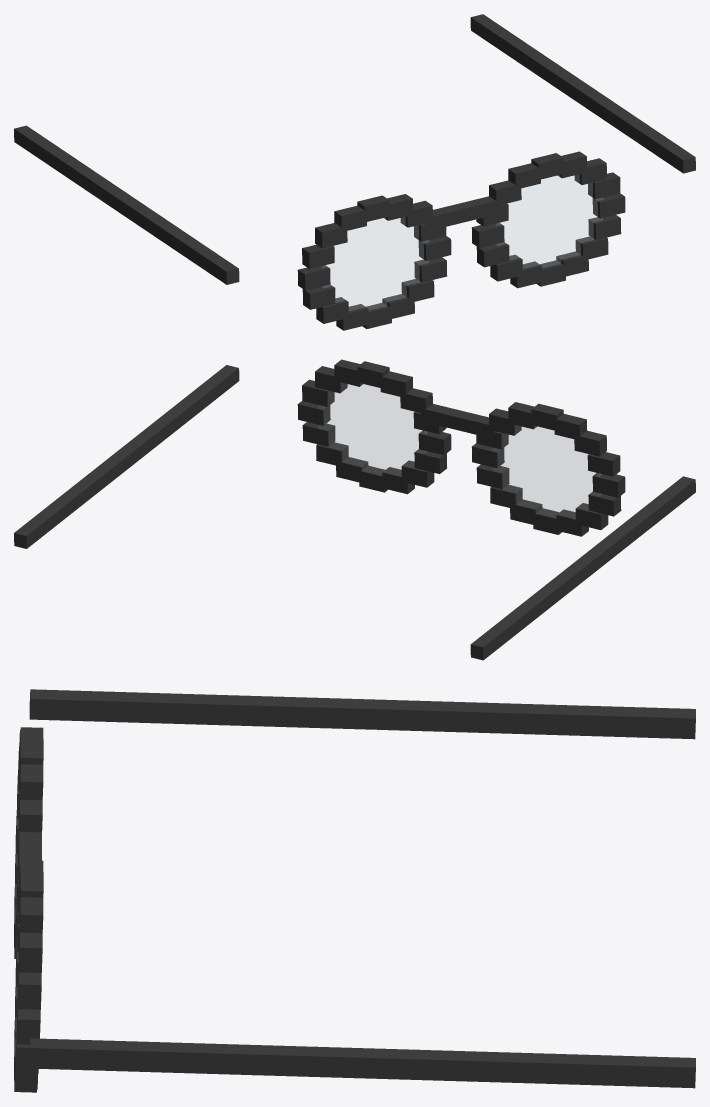
File: glasses_f.glb
3 views of the same model, one above another, from view 1: azimuth 30°, elevation 25°; view 2: azimuth 150°, elevation 25°; view 3: azimuth 270°, elevation 25° (orthographic). The views are drawn at different scales.
Visible parts, largest first — view 1: glasses_f; view 2: glasses_f; view 3: glasses_f.
Part boxes in pixels (x1,y1,x2,y2): glasses_f: (14, 14, 695, 330); glasses_f: (14, 359, 695, 660); glasses_f: (14, 689, 695, 1092).
Size of the model in its own units: 0.1863 by 0.0461 by 0.1497.
